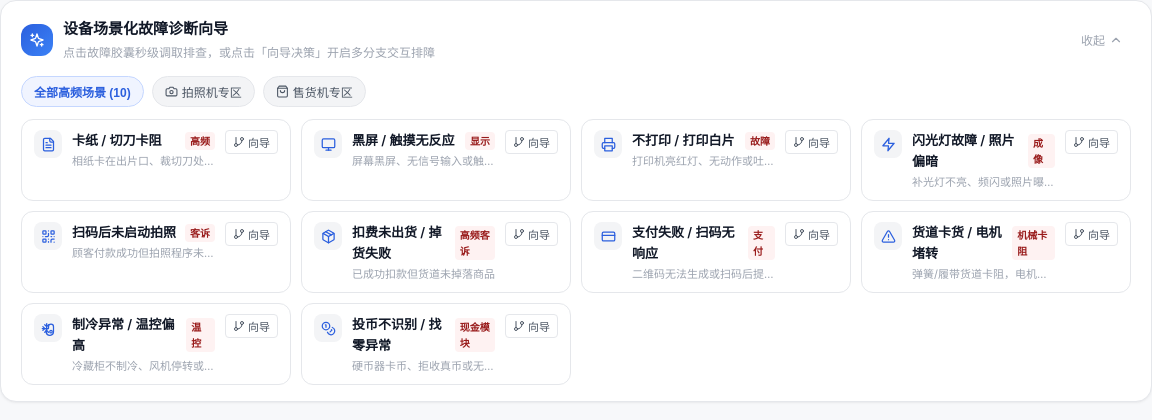
Tier 1 & 2 Component: Diagnostic Guide Decision Tree (F-06 / F-07) › T1-TREE-03: tab switching filters Vending Machine zone scenarios
Click the button "售货机专区" at (314, 92), box [263,76,366,107]
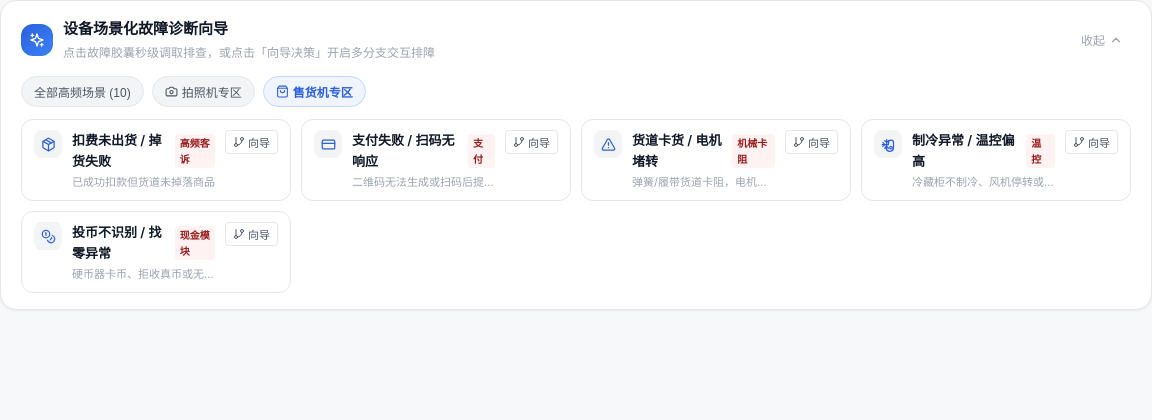
Expected: the text "扣费未出货 / 掉货失败" is shown, [72,130,169,172]
Now the button "卡纸 / 切刀卡阻" is gone
